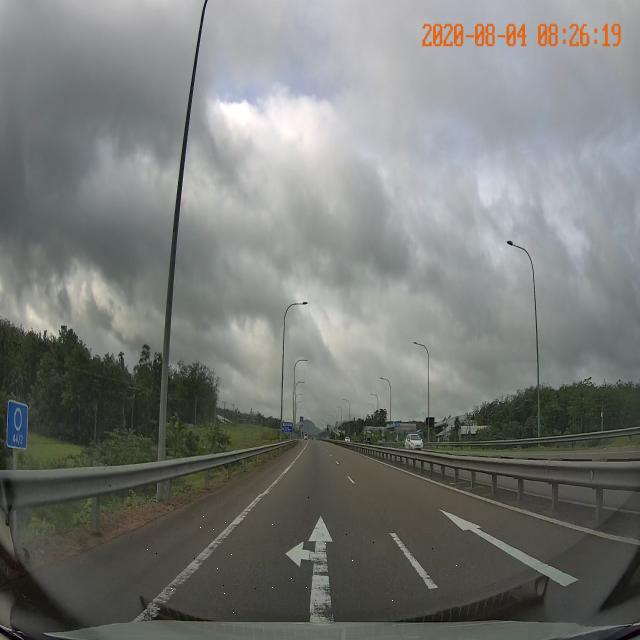forward_lft: (148, 495, 458, 613)
